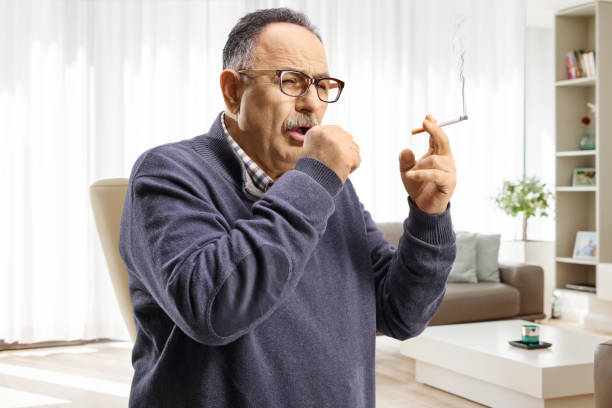cigarette: (411, 114, 469, 135)
